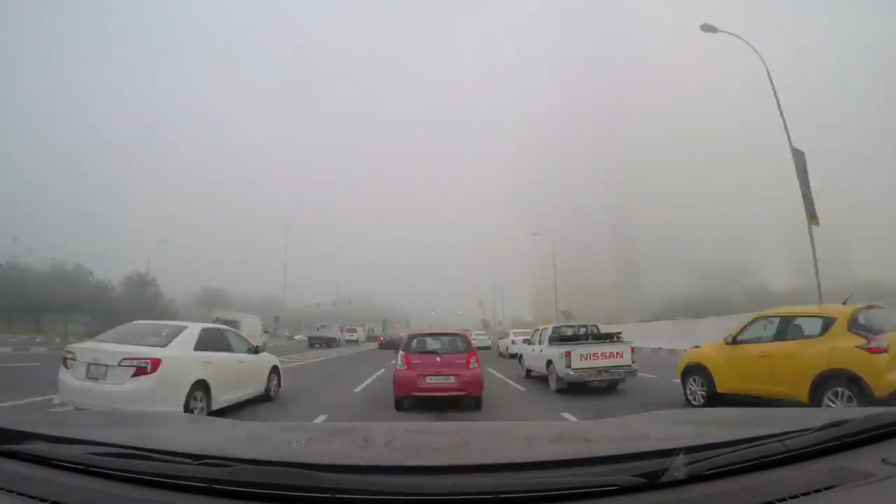car: (675, 291, 896, 415), (56, 317, 283, 419), (515, 321, 637, 395), (390, 331, 486, 412), (208, 308, 270, 354), (495, 329, 537, 358), (306, 322, 342, 349), (378, 329, 402, 350), (341, 324, 367, 343), (468, 331, 493, 350)
